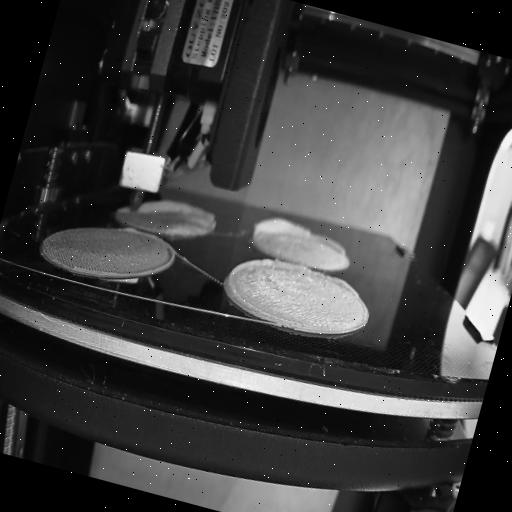over_extrusion: (220, 246, 312, 328), (135, 186, 223, 238), (248, 204, 314, 252), (318, 270, 364, 298), (312, 230, 350, 259), (120, 222, 140, 236), (116, 204, 128, 217)
